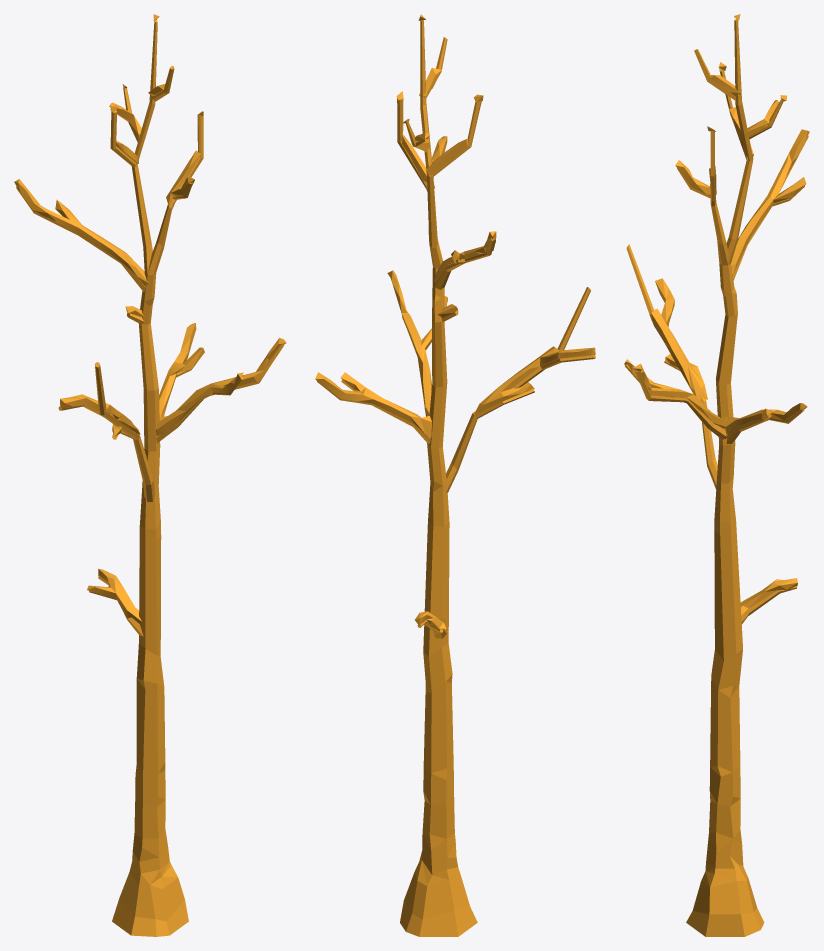
The model's file is SM_Tree_Birch_Young_A_Bare_Snow.fbx.
3 views of the same model, side by side, from view 1: azimuth 30°, elevation 25°; view 2: azimuth 150°, elevation 25°; view 3: azimuth 270°, elevation 25° (orthographic).
Visible parts, largest first — view 1: tree-birch-young-a-bare-snow; view 2: tree-birch-young-a-bare-snow; view 3: tree-birch-young-a-bare-snow.
Boxes of the visible parts, bbox=[...] form: tree-birch-young-a-bare-snow: bbox=[14, 14, 286, 936]; tree-birch-young-a-bare-snow: bbox=[315, 14, 595, 936]; tree-birch-young-a-bare-snow: bbox=[624, 14, 809, 936].
Size of the model in its own units: 1.19 by 4.74 by 0.8728.
